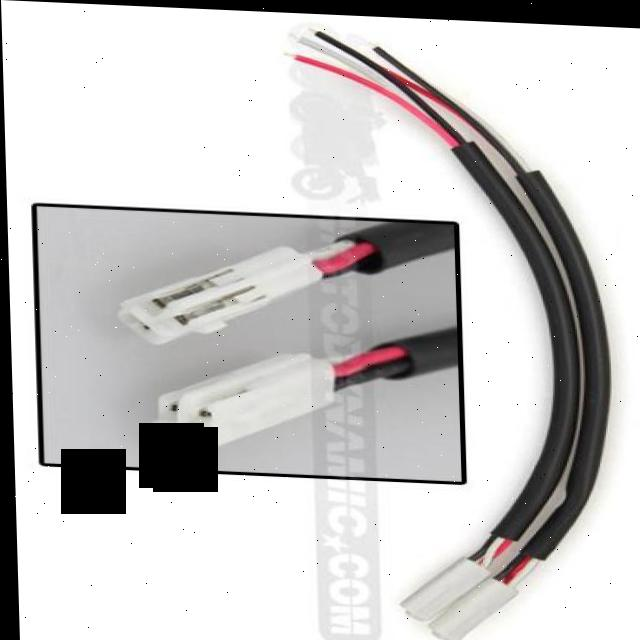connector: (116, 239, 352, 342), (150, 350, 331, 446), (425, 558, 531, 635), (397, 554, 485, 618)
